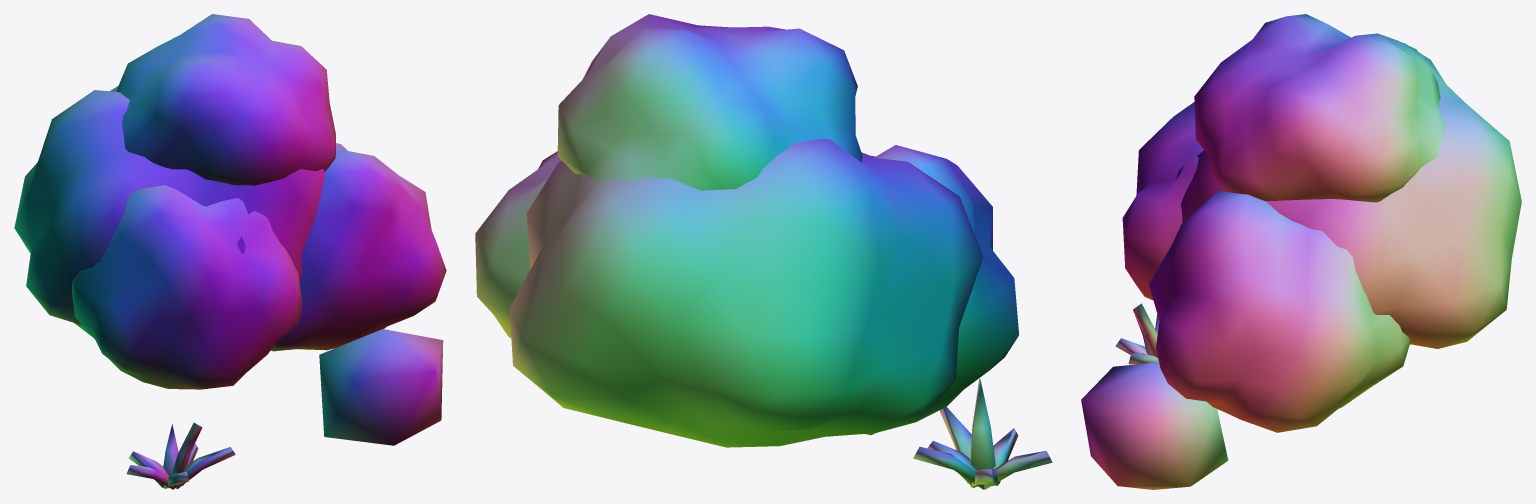
Rendered from SM_Outcrop_Plains_V2.fbx.
3 views of the same model, side by side, from view 1: azimuth 30°, elevation 25°; view 2: azimuth 150°, elevation 25°; view 3: azimuth 270°, elevation 25° (orthographic). The views are drawn at different scales.
Visible parts, largest first — view 1: SM_Outcrop_Plains_V2; view 2: SM_Outcrop_Plains_V2; view 3: SM_Outcrop_Plains_V2.
Boxes of the visible parts, x1,y1,x2,y2 form: SM_Outcrop_Plains_V2: (14,14,446,489); SM_Outcrop_Plains_V2: (475,14,1052,489); SM_Outcrop_Plains_V2: (1081,14,1521,489).
Bounding box in the file's own units: 1.41 × 1.4 × 1.35.
